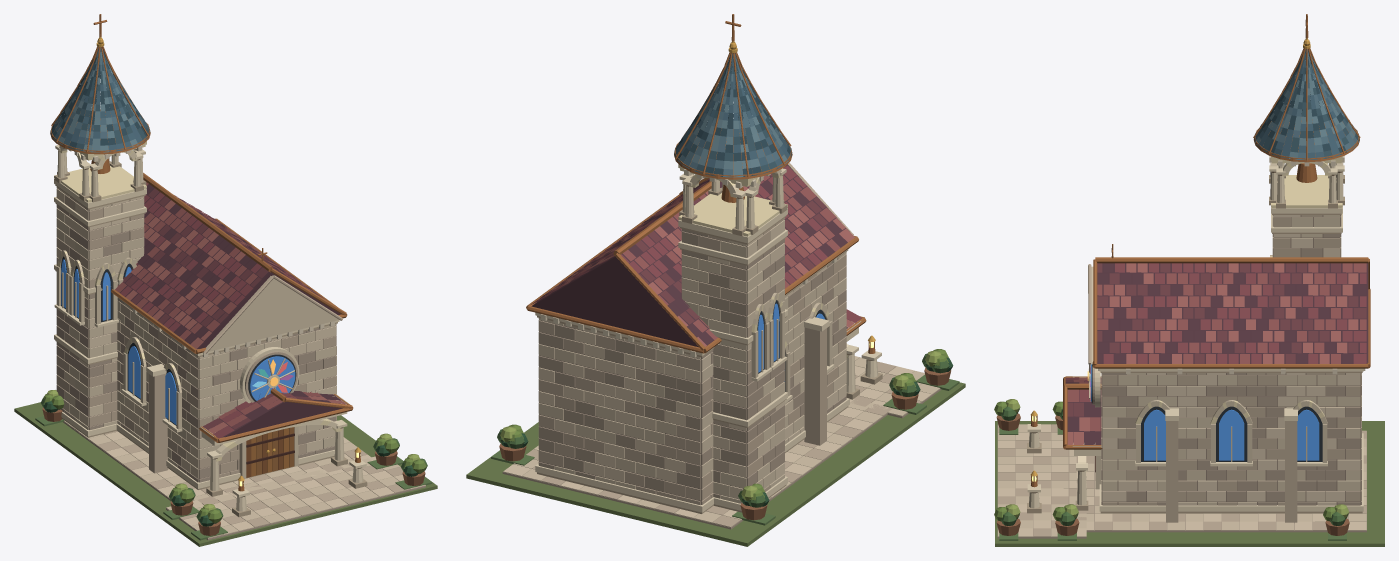
File: chapel-nivel-3.glb
3 views of the same model, side by side, from view 1: azimuth 30°, elevation 25°; view 2: azimuth 150°, elevation 25°; view 3: azimuth 270°, elevation 25° (orthographic). The views are drawn at different scales.
Visible parts, largest first — view 1: Capela 03 #d3c3a9, Capela 03 #c1af99, Capela 03 #dac9af, Capela 03 #e6d7ba, Capela 03 #593b44, Capela 03 #ae9d8b, Capela 03 #6c7d4e, Capela 03 #a76e42, Capela 03 #824a50, Capela 03 #8f5655, Capela 03 #9e645f, Capela 03 #406c9f (+18 smaller); view 2: Capela 03 #c1af99, Capela 03 #d3c3a9, Capela 03 #dac9af, Capela 03 #ae9d8b, Capela 03 #593b44, Capela 03 #6c7d4e, Capela 03 #e6d7ba, Capela 03 #a76e42, Capela 03 #87776b, Capela 03 #eadbb2, Capela 03 #824a50, Capela 03 #8f5655 (+14 smaller); view 3: Capela 03 #c1af99, Capela 03 #d3c3a9, Capela 03 #593b44, Capela 03 #dac9af, Capela 03 #ae9d8b, Capela 03 #6c7d4e, Capela 03 #a76e42, Capela 03 #e6d7ba, Capela 03 #824a50, Capela 03 #8f5655, Capela 03 #70444a, Capela 03 #9e645f (+15 smaller).
Boxes of the visible parts, box(x1,y1,x2,y2) form: Capela 03 #d3c3a9: box(56, 204, 425, 534); Capela 03 #c1af99: box(56, 194, 410, 538); Capela 03 #dac9af: box(56, 187, 403, 531); Capela 03 #e6d7ba: box(54, 145, 366, 511); Capela 03 #593b44: box(118, 184, 342, 437); Capela 03 #ae9d8b: box(56, 204, 425, 540); Capela 03 #6c7d4e: box(14, 402, 437, 546); Capela 03 #a76e42: box(50, 14, 360, 491); Capela 03 #824a50: box(120, 192, 323, 438); Capela 03 #8f5655: box(115, 182, 322, 426); Capela 03 #9e645f: box(125, 200, 346, 433); Capela 03 #406c9f: box(61, 259, 295, 424); Capela 03 #c1af99: box(526, 162, 921, 527); Capela 03 #d3c3a9: box(513, 229, 940, 522); Capela 03 #dac9af: box(503, 220, 931, 519); Capela 03 #ae9d8b: box(502, 229, 941, 529); Capela 03 #593b44: box(531, 165, 849, 347); Capela 03 #6c7d4e: box(466, 382, 965, 546); Capela 03 #e6d7ba: box(535, 168, 881, 512); Capela 03 #a76e42: box(526, 14, 875, 353); Capela 03 #87776b: box(539, 231, 747, 504); Capela 03 #eadbb2: box(627, 164, 847, 357); Capela 03 #824a50: box(531, 165, 861, 322); Capela 03 #8f5655: box(545, 175, 840, 339); Capela 03 #c1af99: box(998, 215, 1366, 536); Capela 03 #d3c3a9: box(998, 215, 1366, 536); Capela 03 #593b44: box(1065, 263, 1368, 444); Capela 03 #dac9af: box(998, 215, 1366, 536); Capela 03 #ae9d8b: box(997, 215, 1366, 538); Capela 03 #6c7d4e: box(995, 421, 1384, 546); Capela 03 #a76e42: box(1031, 14, 1370, 487); Capela 03 #e6d7ba: box(1027, 161, 1363, 511); Capela 03 #824a50: box(1065, 263, 1366, 401); Capela 03 #8f5655: box(1067, 263, 1366, 431); Capela 03 #70444a: box(1065, 263, 1366, 416); Capela 03 #9e645f: box(1067, 263, 1358, 444).
Size of the model in its own units: 8.75 by 14.48 by 11.78.
